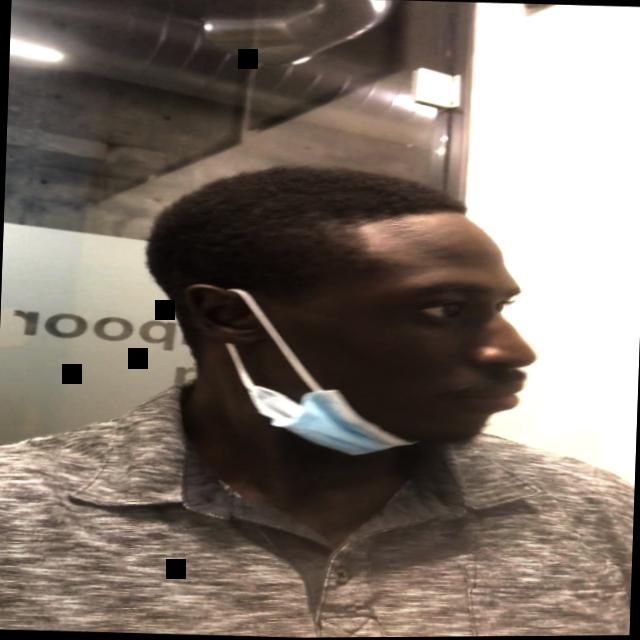NO-Mask: (179, 213, 542, 451)
